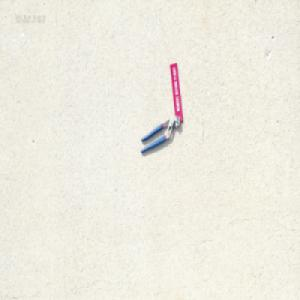Label: (169, 62, 183, 122)
Pliers: (139, 115, 180, 154)
